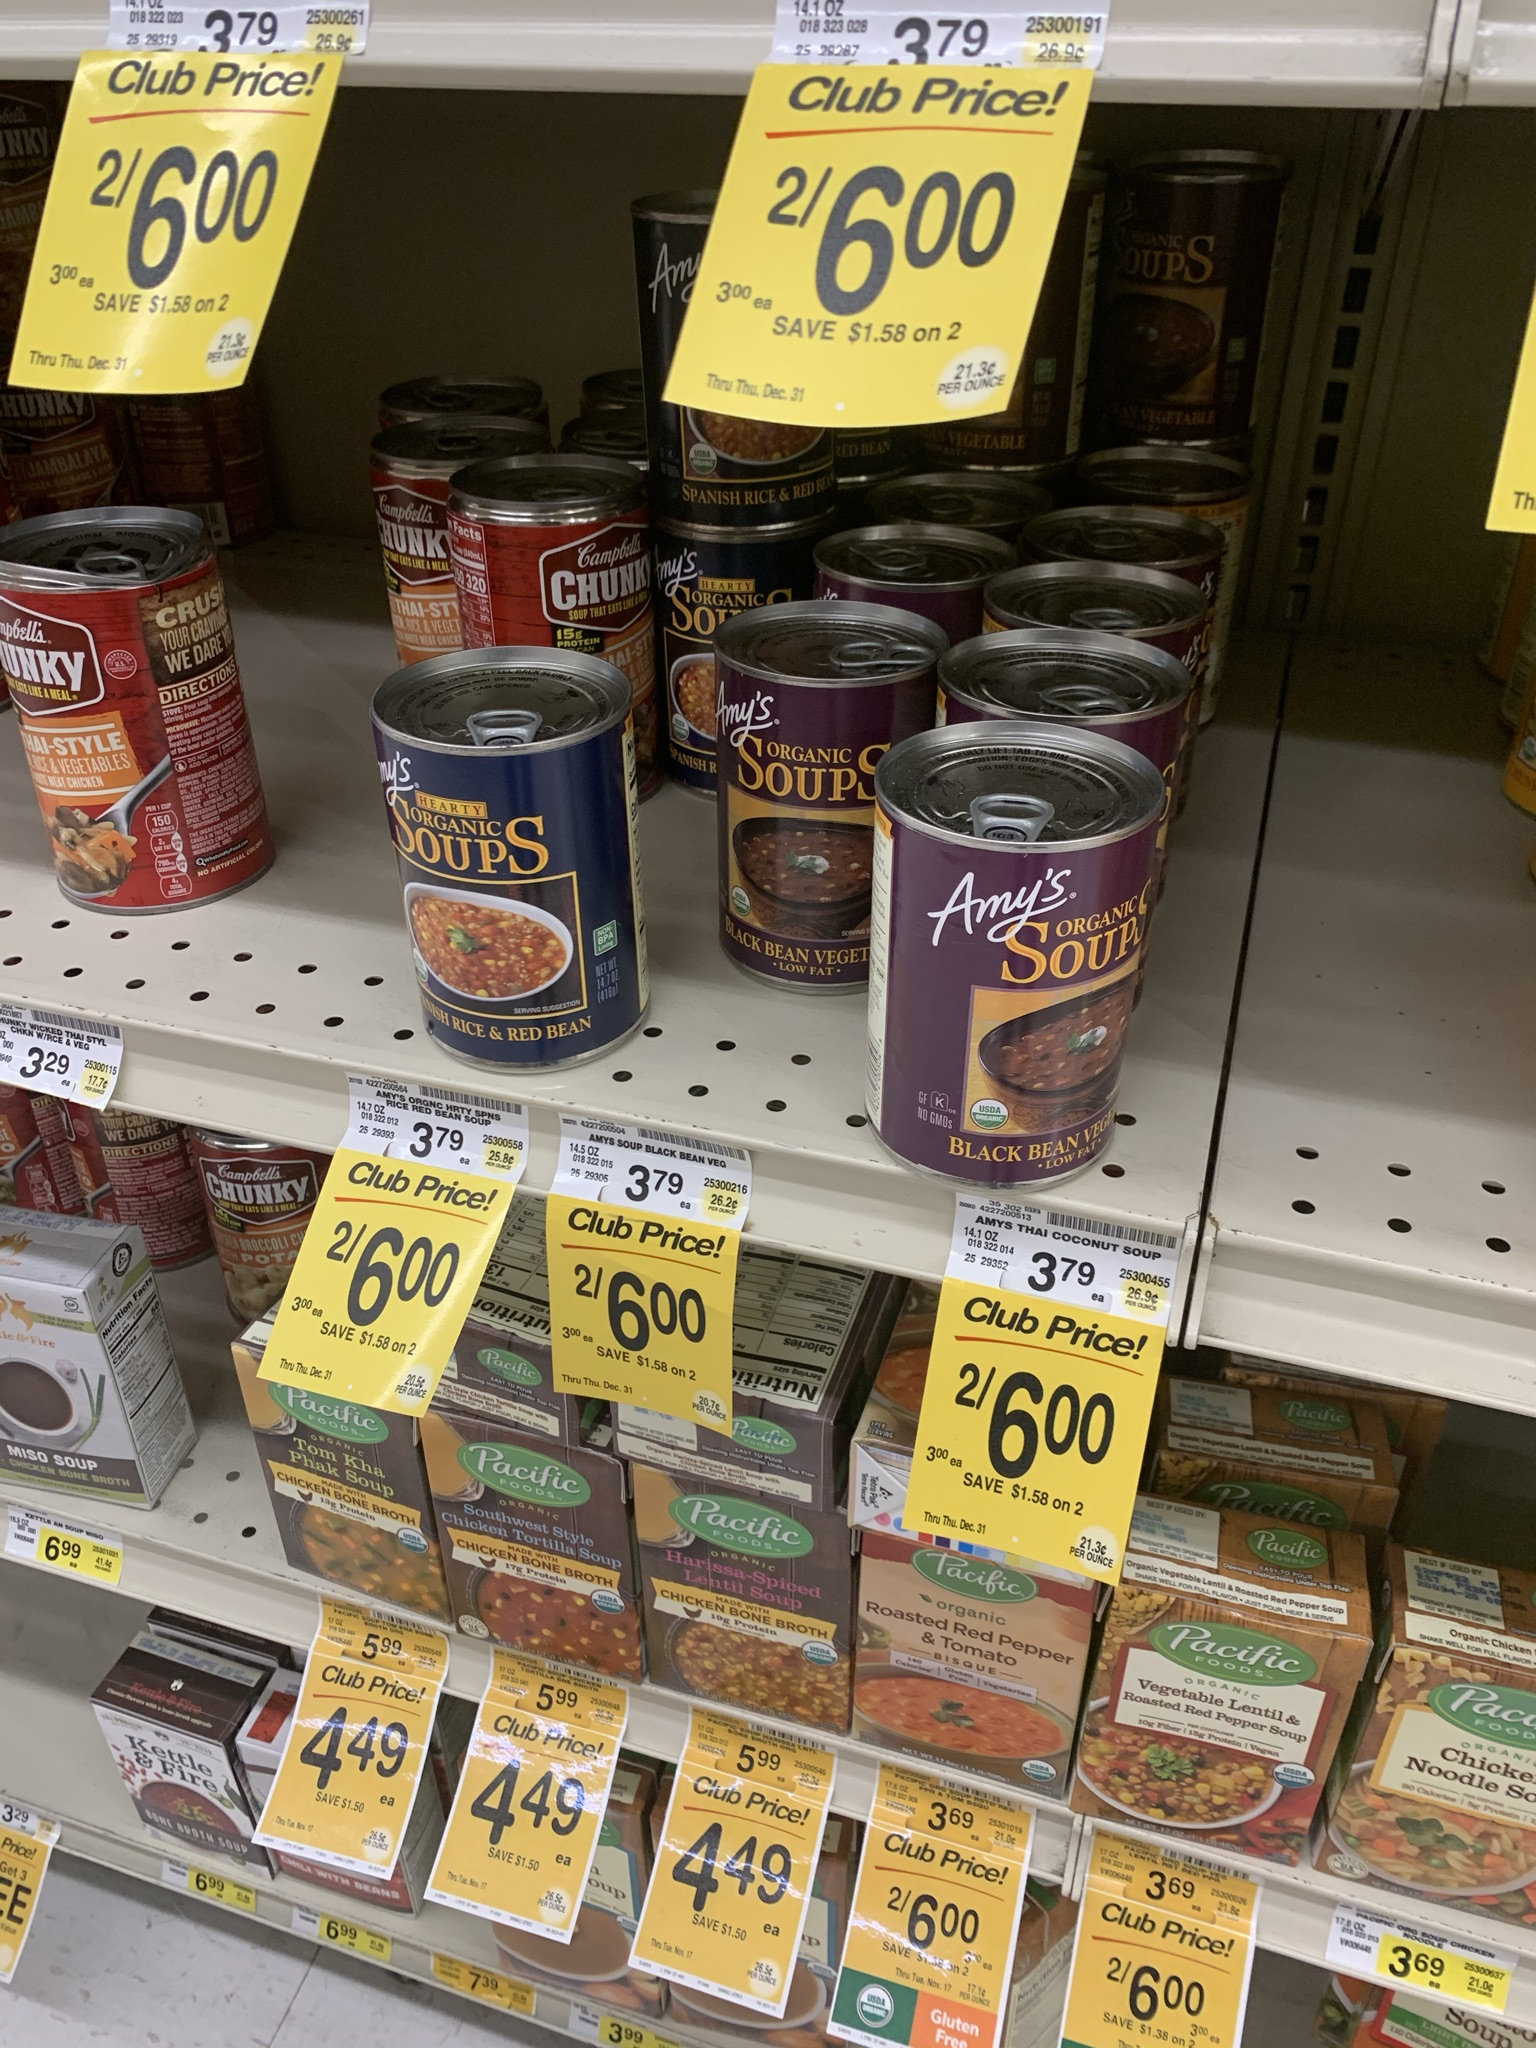box: (1092, 1587, 1346, 1854), (629, 1467, 845, 1705), (873, 1558, 1073, 1775), (439, 1419, 620, 1634), (3, 1280, 131, 1471), (273, 1422, 419, 1587), (106, 1713, 231, 1843)
can: (892, 798, 1120, 1147), (399, 716, 624, 1055), (23, 584, 232, 887)
